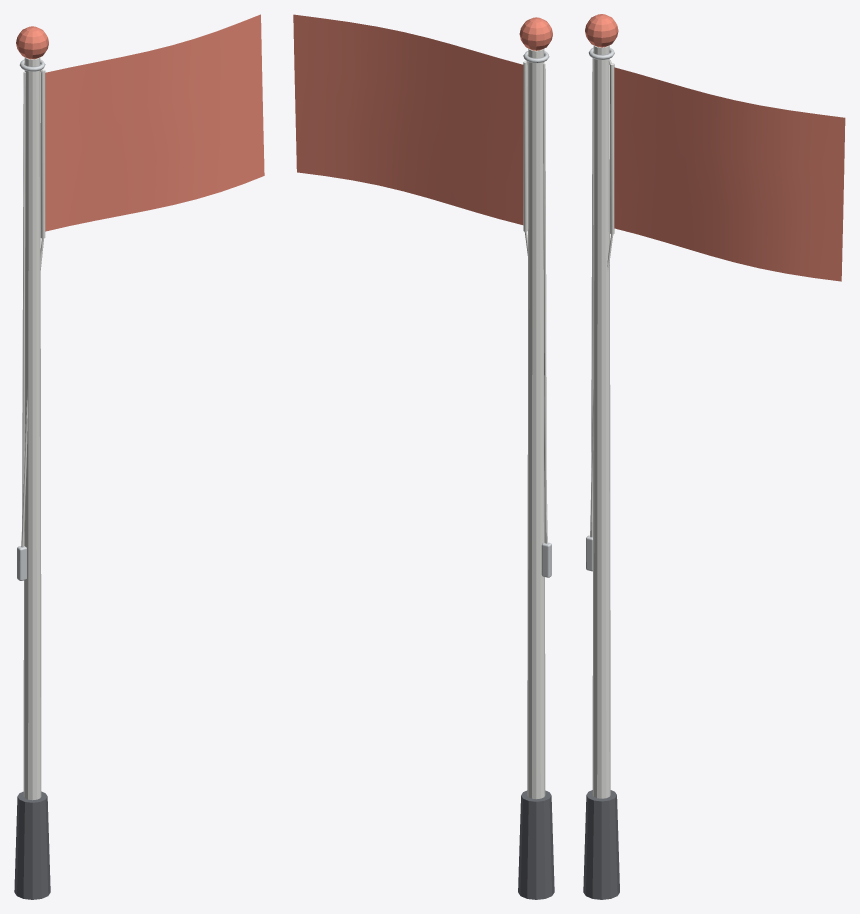
The model's file is beach-surf-and-paddle-kit-warning-flag-pole-04ad1969.glb.
3 views of the same model, side by side, from view 1: azimuth 30°, elevation 25°; view 2: azimuth 150°, elevation 25°; view 3: azimuth 330°, elevation 25° (orthographic).
Parts seen in each view (by area): view 1: warning-flag-pole-coral, warning-flag-pole-foam, warning-flag-pole-charcoal, warning-flag-pole-steel; view 2: warning-flag-pole-coral, warning-flag-pole-foam, warning-flag-pole-charcoal, warning-flag-pole-steel; view 3: warning-flag-pole-coral, warning-flag-pole-foam, warning-flag-pole-charcoal.
Part boxes in pixels (bbox=[...]): warning-flag-pole-coral: bbox=[16, 14, 264, 231]; warning-flag-pole-foam: bbox=[21, 57, 45, 800]; warning-flag-pole-charcoal: bbox=[14, 791, 50, 899]; warning-flag-pole-steel: bbox=[17, 59, 45, 580]; warning-flag-pole-coral: bbox=[293, 14, 552, 224]; warning-flag-pole-foam: bbox=[523, 48, 547, 799]; warning-flag-pole-charcoal: bbox=[518, 790, 554, 899]; warning-flag-pole-steel: bbox=[523, 51, 551, 577]; warning-flag-pole-coral: bbox=[585, 14, 845, 281]; warning-flag-pole-foam: bbox=[590, 45, 614, 798]; warning-flag-pole-charcoal: bbox=[583, 790, 619, 899].
Bounding box in the file's own units: 0.955 × 3.15 × 0.12.
